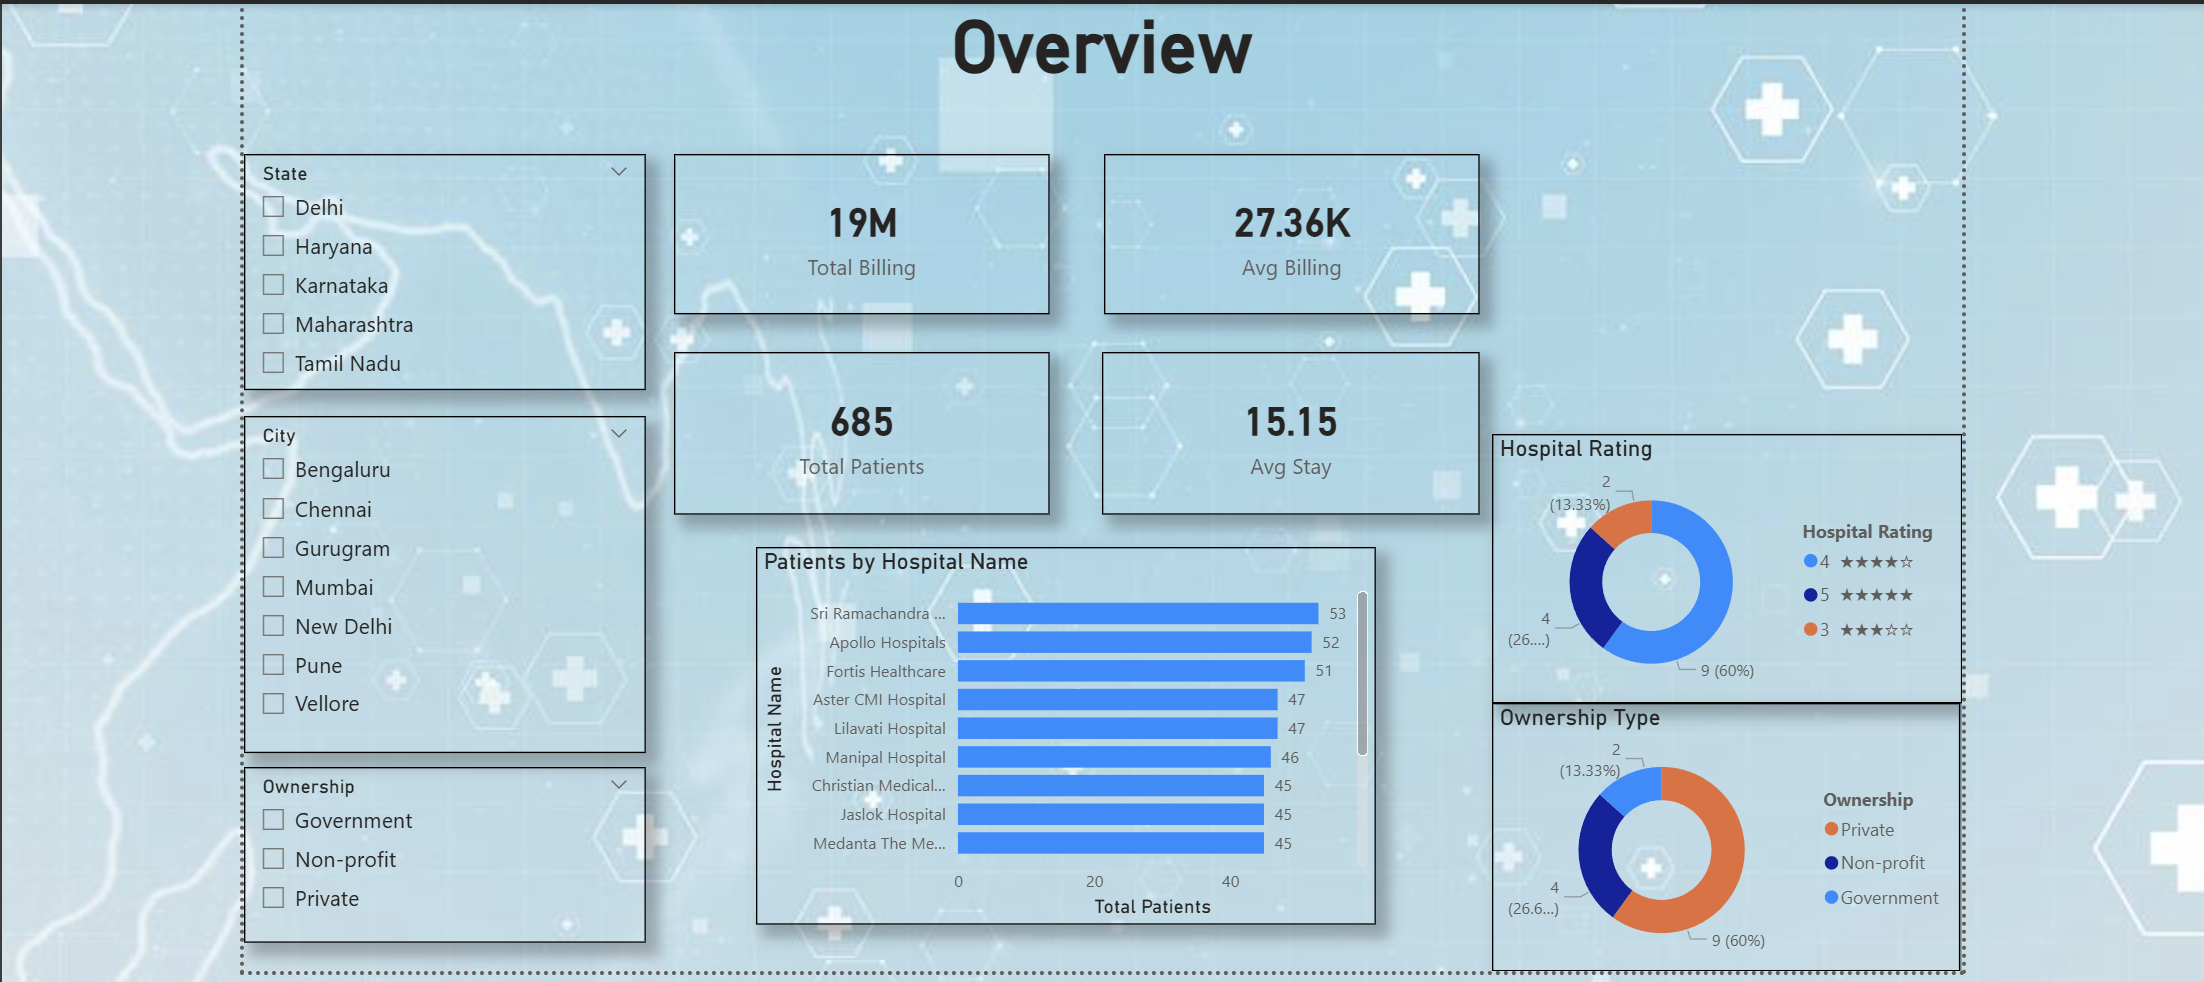

The dashboard page shown, as its layout file describes it:
{"tool":"powerbi","page":{"name":"Overview","canvas":[1280,720],"ordinal":1},"visuals":[{"type":"card","fields":{"Values":["2_Hospital_Info.Total Patients"]},"box":[320.5,259.4,280.2,120.7],"z":1000},{"type":"card","fields":{"Values":["1_Patient_Dataset.Avg Billing"]},"box":[641,111.8,280.2,119.3],"z":2000},{"type":"card","fields":{"Values":["2_Hospital_Info.Avg Stay"]},"box":[639.5,259.4,281.7,120.7],"z":3000},{"type":"card","fields":{"Values":["1_Patient_Dataset.Total Billing"]},"box":[320.5,111.8,280.2,119.3],"z":4000},{"type":"donutChart","title":"Hospital Rating","fields":{"Category":["2_Hospital_Info.Hospital Rating"],"Y":["CountNonNull(2_Hospital_Info.Hospital Name)"]},"box":[929.7,320,350.3,200.2],"z":5000},{"type":"clusteredBarChart","title":"Patients by Hospital Name","fields":{"Category":["2_Hospital_Info.Hospital Name"],"Y":["2_Hospital_Info.Total Patients"]},"box":[381.6,404,462.1,281.7],"z":6000},{"type":"donutChart","title":"Ownership Type","fields":{"Category":["2_Hospital_Info.Ownership"],"Y":["CountNonNull(2_Hospital_Info.Hospital Name)"]},"box":[929.7,520.2,348.8,200.2],"z":7000},{"type":"slicer","fields":{"Values":["2_Hospital_Info.City"]},"box":[0,307.1,299.6,250.4],"z":8000},{"type":"slicer","fields":{"Values":["2_Hospital_Info.State"]},"box":[0,111.8,299.6,175.9],"z":9000},{"type":"slicer","fields":{"Values":["2_Hospital_Info.Ownership"]},"box":[0,568,299.6,131.2],"z":10000},{"type":"textbox","title":"Overview","box":[0,0,1280,68.2],"z":10002}]}

Visuals, with their boxes in screenshot pixels (x1, y1, x2, y2):
card - 2_Hospital_Info.Total Patients: [666, 349, 1043, 511]
card - 1_Patient_Dataset.Avg Billing: [1097, 150, 1474, 311]
card - 2_Hospital_Info.Avg Stay: [1095, 349, 1474, 511]
card - 1_Patient_Dataset.Total Billing: [666, 150, 1043, 311]
"Hospital Rating" donutChart: [1485, 430, 1956, 699]
"Patients by Hospital Name" clusteredBarChart: [748, 543, 1370, 922]
"Ownership Type" donutChart: [1485, 699, 1954, 968]
slicer - 2_Hospital_Info.City: [235, 413, 638, 749]
slicer - 2_Hospital_Info.State: [235, 150, 638, 387]
slicer - 2_Hospital_Info.Ownership: [235, 764, 638, 940]
"Overview" textbox: [235, 0, 1956, 92]
